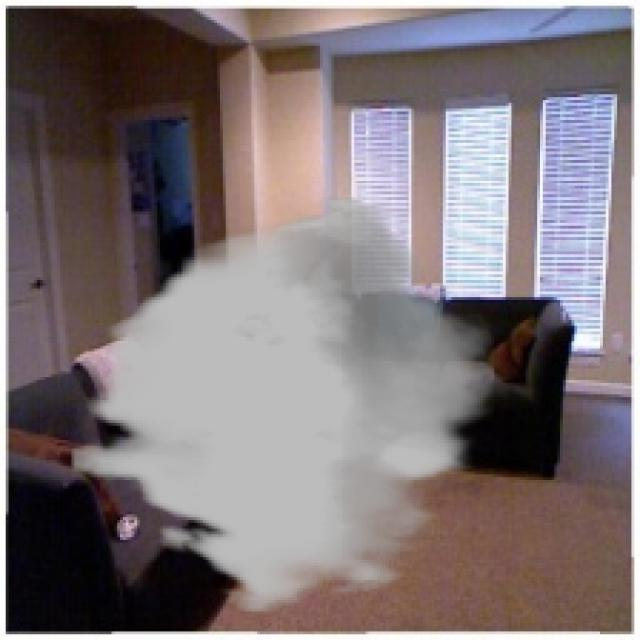smoke: (72, 195, 494, 614)
